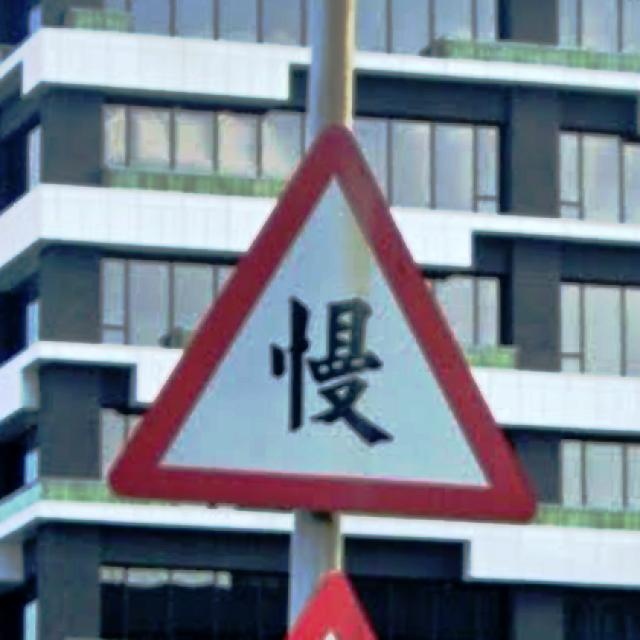slow: (103, 119, 540, 526)
